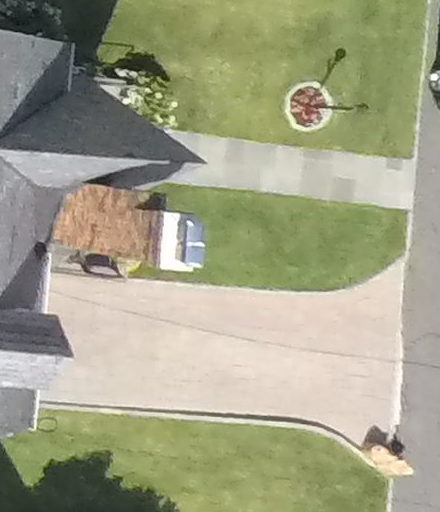container: (385, 432, 409, 458)
garbage bin: (383, 432, 411, 460)
